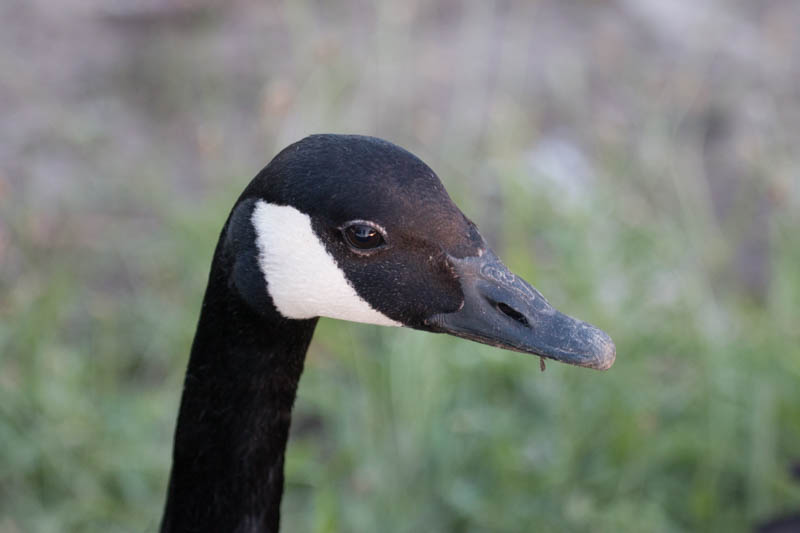goose-head: (204, 134, 617, 373)
